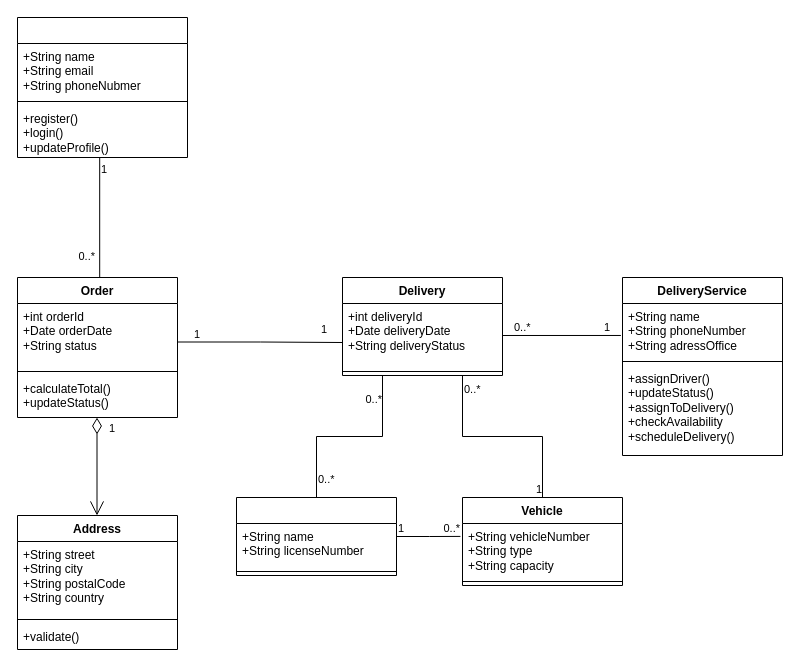
Some shapes in this 800 by 670 pixel diagram are drawn without their labels. The shapes that lost their labels are listed below. From the top down, each one's box as (x1, y1, x2, y2) in pixels, then its label:
(16, 16, 188, 158): User
(236, 496, 396, 576): Driver
